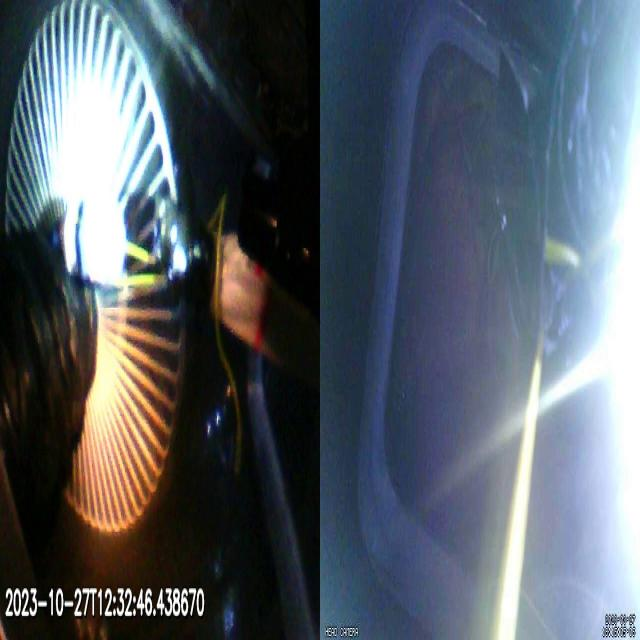head: (59, 190, 126, 284)
